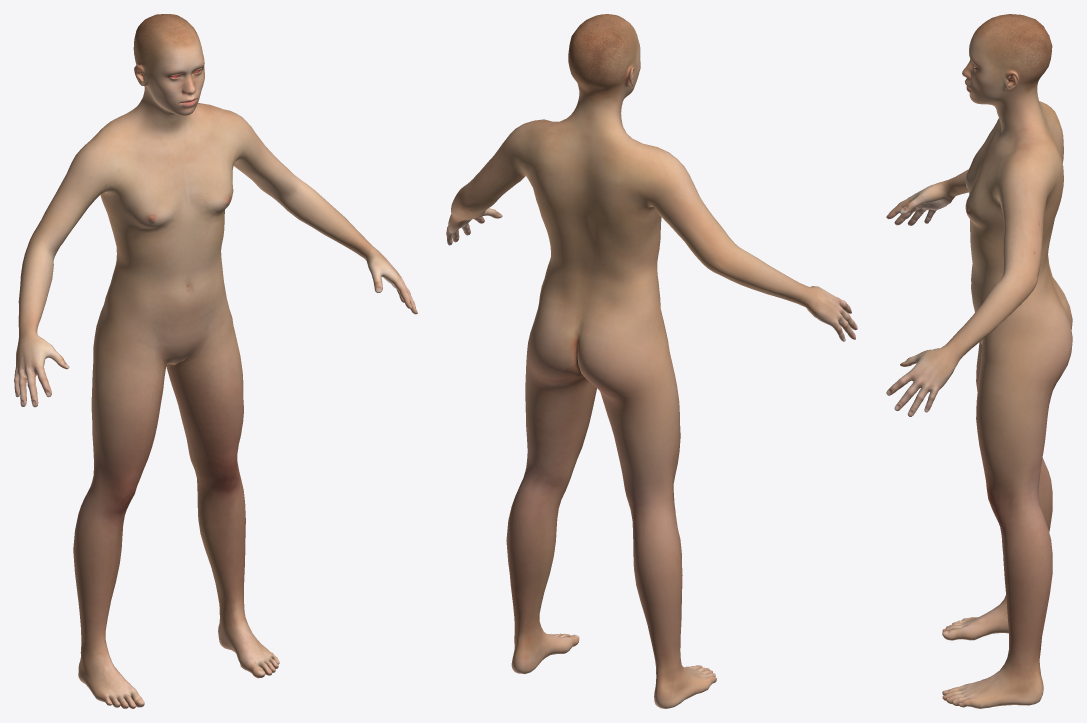
The model's file is body.obj.
3 renders of one model, left to right at view 1: azimuth 30°, elevation 25°; view 2: azimuth 150°, elevation 25°; view 3: azimuth 270°, elevation 25°, orthographic.
Visible parts, largest first — view 1: test-base; view 2: test-base; view 3: test-base.
Boxes of the visible parts, <box> form: test-base: <box>14,14,417,708</box>; test-base: <box>446,14,857,708</box>; test-base: <box>886,14,1072,708</box>.
Bounding box in the file's own units: 1.05 × 1.66 × 0.43.
1 material, 1 textured.
